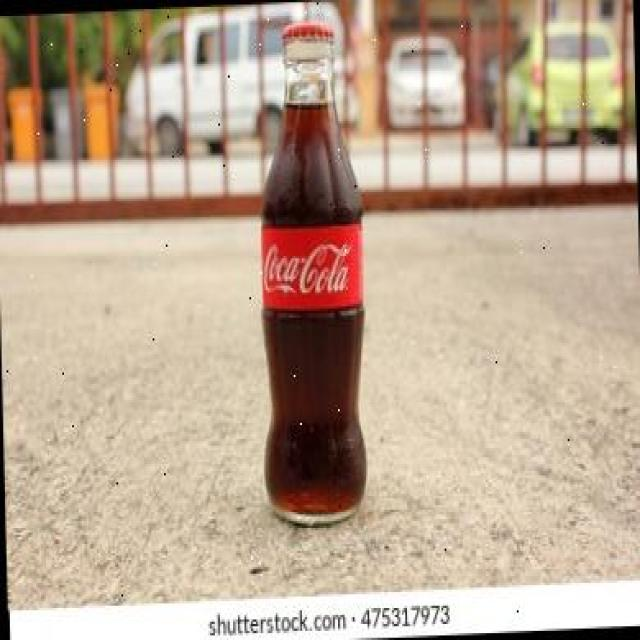coca-cola: (250, 12, 374, 530)
